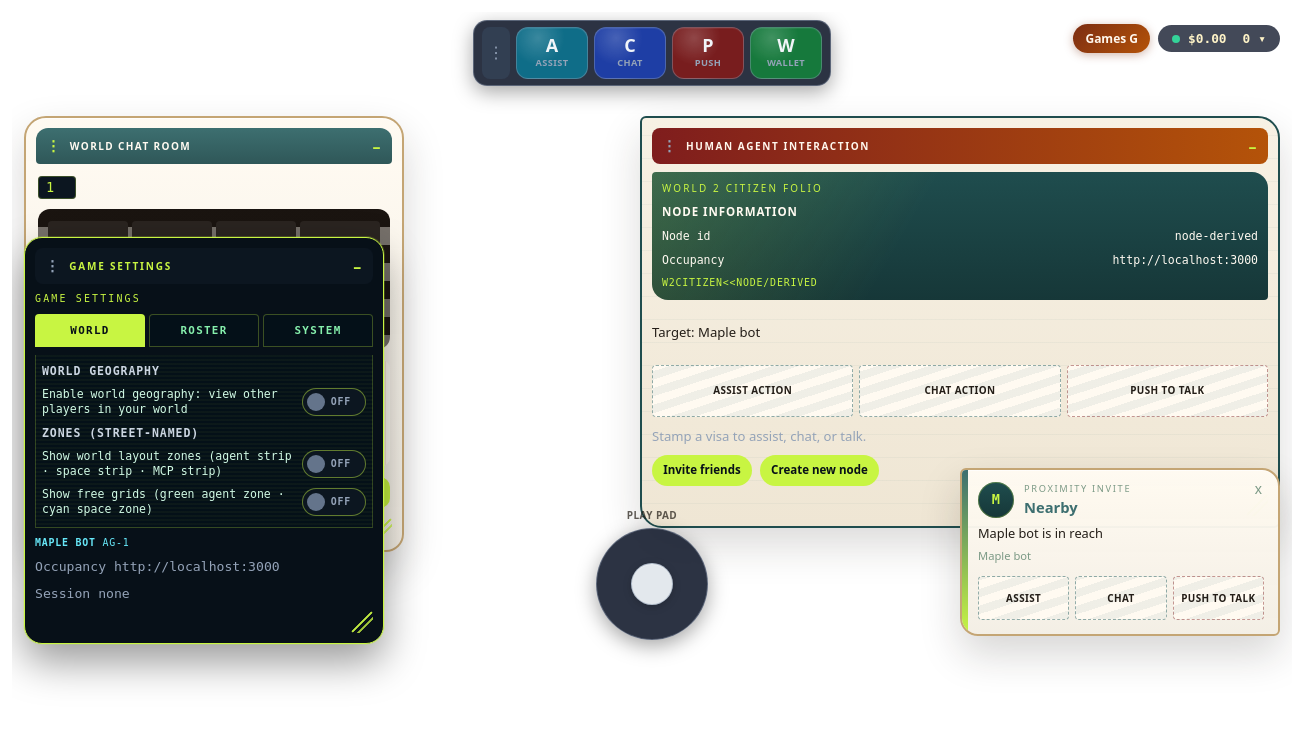
Test: Game shell › raises a nearby toast with assist, chat, and push to talk
Check: the element named "notifications" shows "Nearby", box x1=1024 y1=497 x2=1078 y2=517
Check: the element named "notifications" shows "Maple bot", box x1=978 y1=548 x2=1031 y2=563
Step 1. Click the button with aria-label "move human agent" → (778, 146), box x1=652 y1=128 x2=1268 y2=164
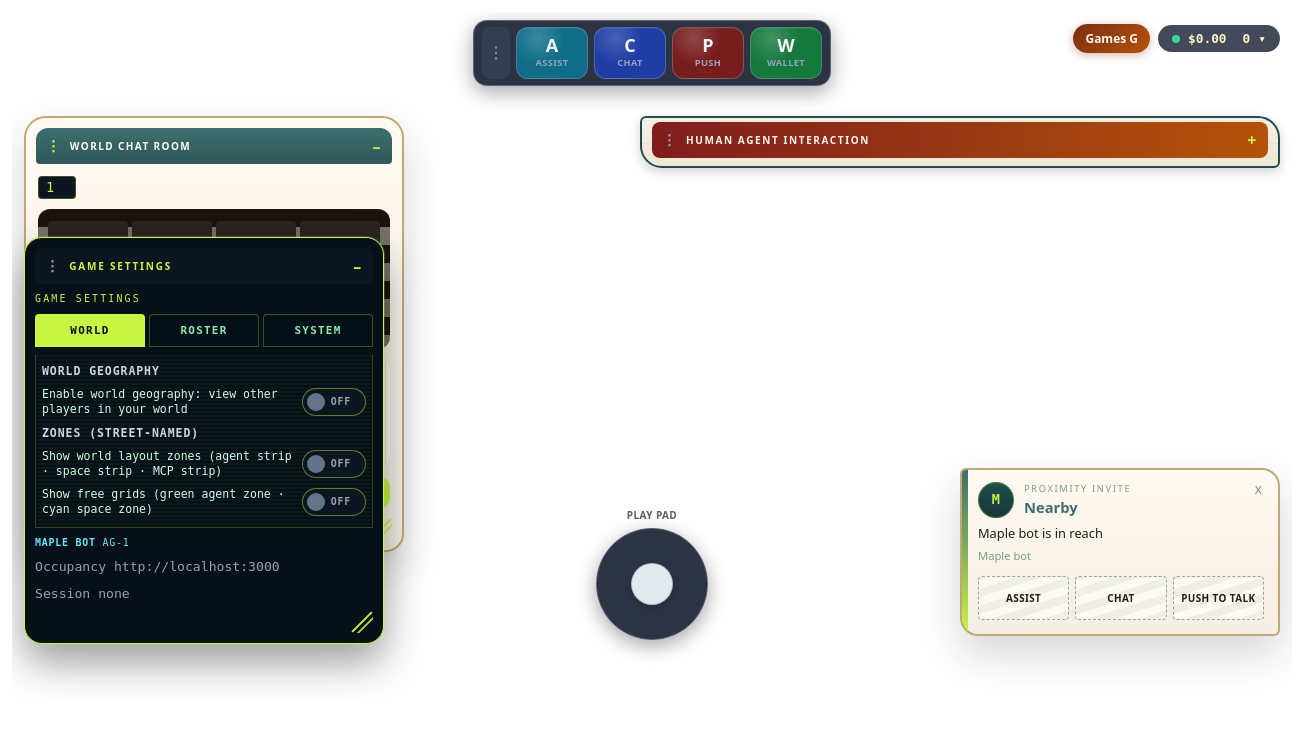
Check: the element "⋮ Human agent interaction +" is collapsed, box x1=640 y1=116 x2=1280 y2=168
Step 2. Click the button "Assist" → (1024, 598), box x1=978 y1=576 x2=1069 y2=620
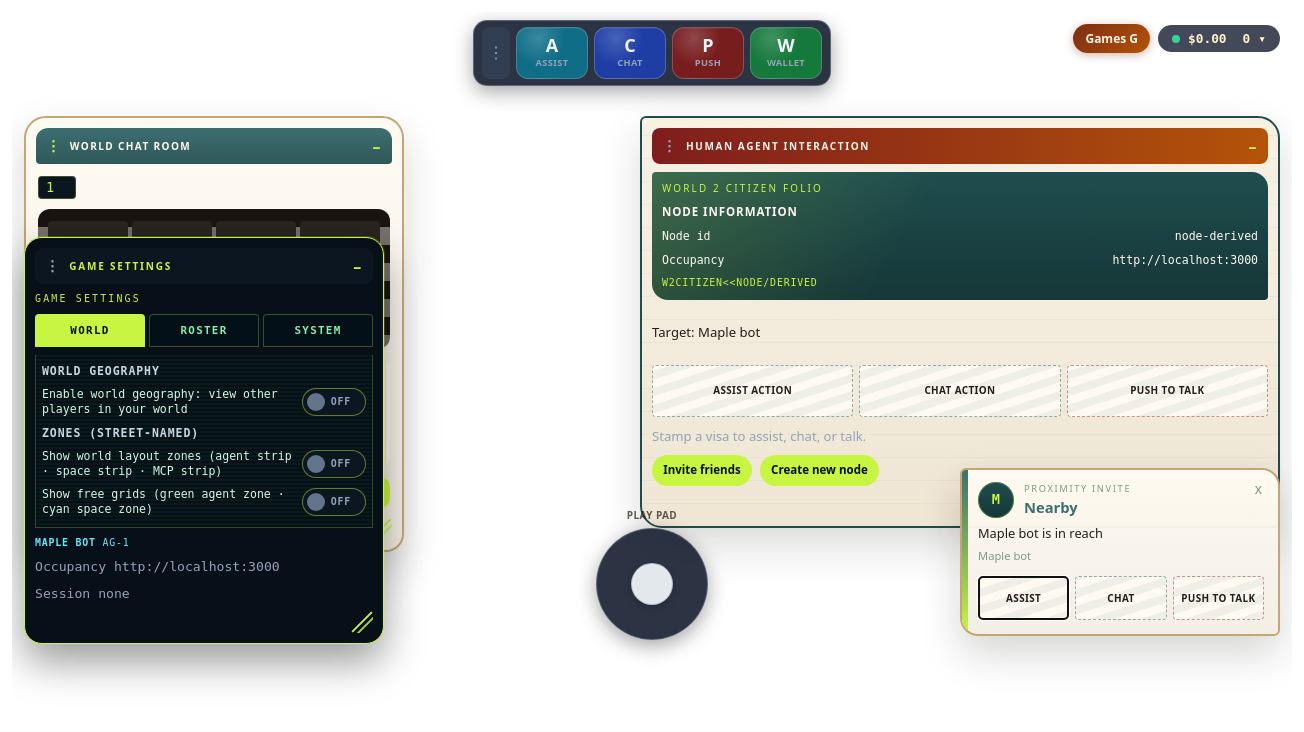
Check: the element "Human agent interaction" is expanded, box x1=640 y1=116 x2=1280 y2=528
Step 3. Click the button with aria-label "move world chat" → (130, 146), box x1=36 y1=128 x2=392 y2=164
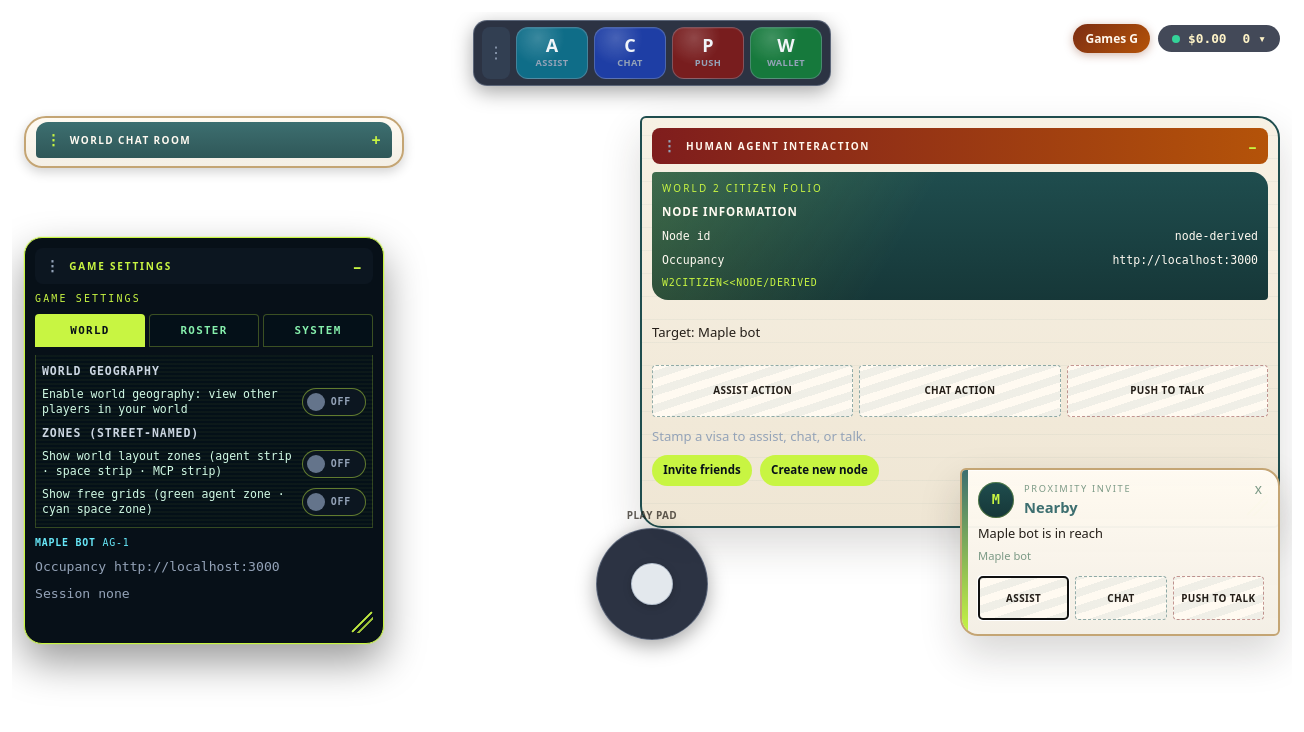
Check: the element "⋮ World chat room +" is collapsed, box x1=24 y1=116 x2=404 y2=168
Step 4. Click the button "Chat" → (1121, 598), box x1=1075 y1=576 x2=1167 y2=620
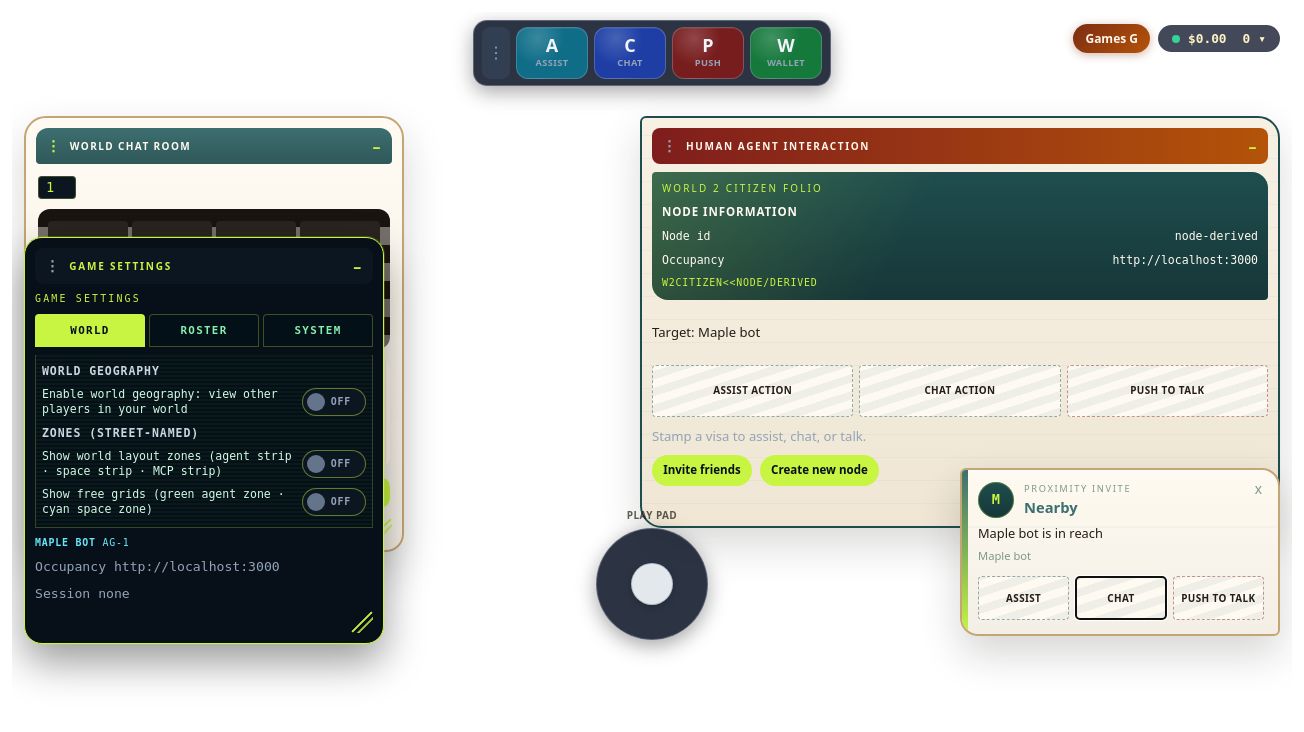
Check: the element "World chat room" is expanded, box x1=24 y1=116 x2=404 y2=552
